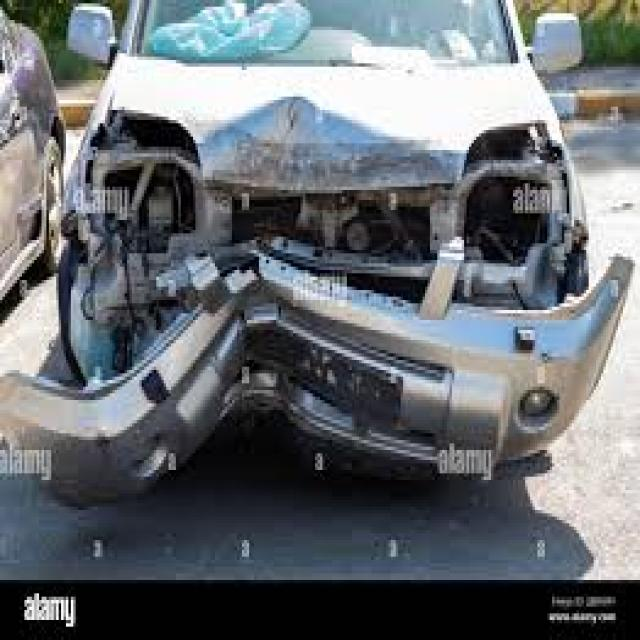moderate: (44, 80, 640, 477)
